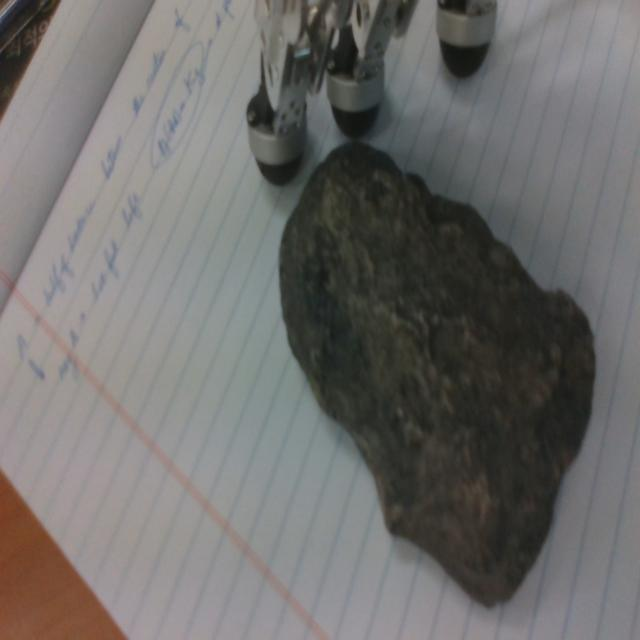stone: (278, 141, 596, 607)
